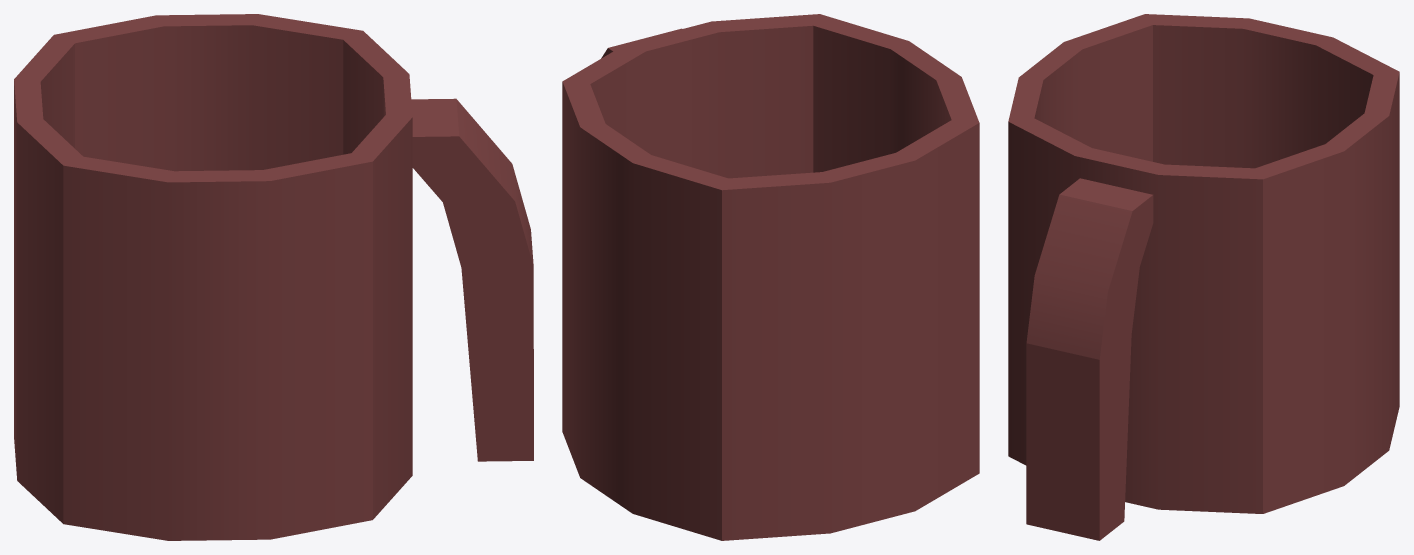
Rendered from cup.fbx.
The picture shows the model from 3 angles, left to right: view 1: azimuth 30°, elevation 25°; view 2: azimuth 150°, elevation 25°; view 3: azimuth 270°, elevation 25°; orthographic projection. The views are drawn at different scales.
Visible parts, largest first — view 1: pCube69, pCube70; view 2: pCube69; view 3: pCube69, pCube70.
Boxes of the visible parts, x1,y1,x2,y2 form: pCube69: [14, 14, 412, 540]; pCube70: [411, 98, 533, 461]; pCube69: [562, 14, 979, 540]; pCube69: [1008, 14, 1399, 513]; pCube70: [1026, 178, 1153, 540].
Size of the model in its own units: 0.3665 by 0.2831 by 0.3.
